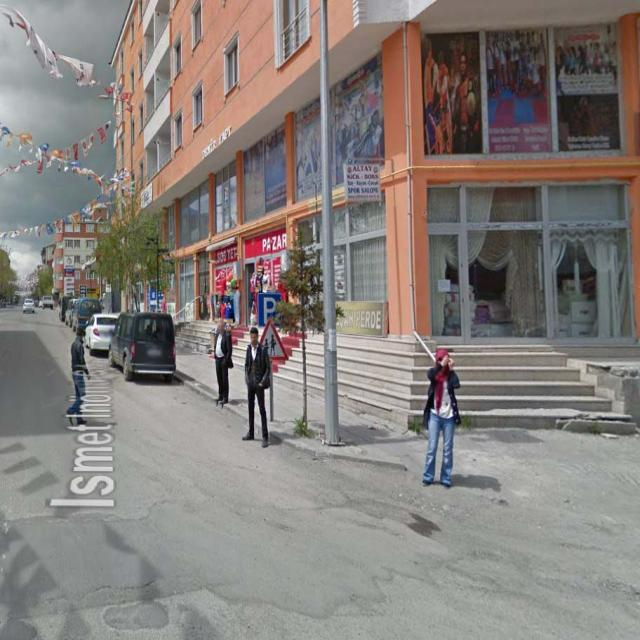park: (261, 292, 281, 325)
